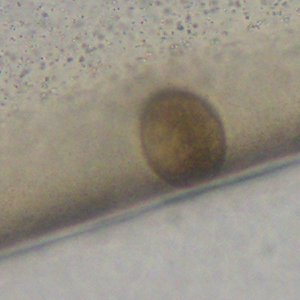Fasciola_hepatica_egg: (139, 87, 229, 190)
